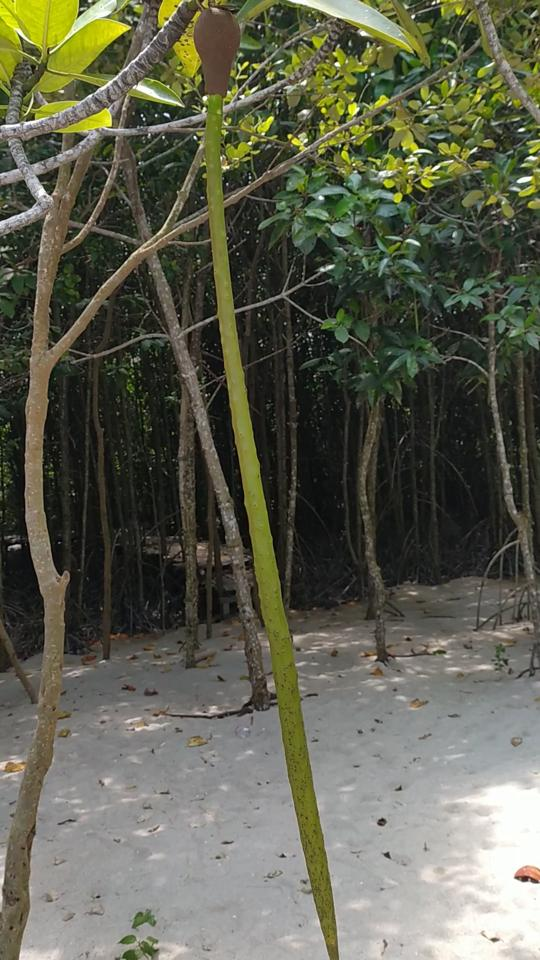mentah: (165, 3, 357, 956)
